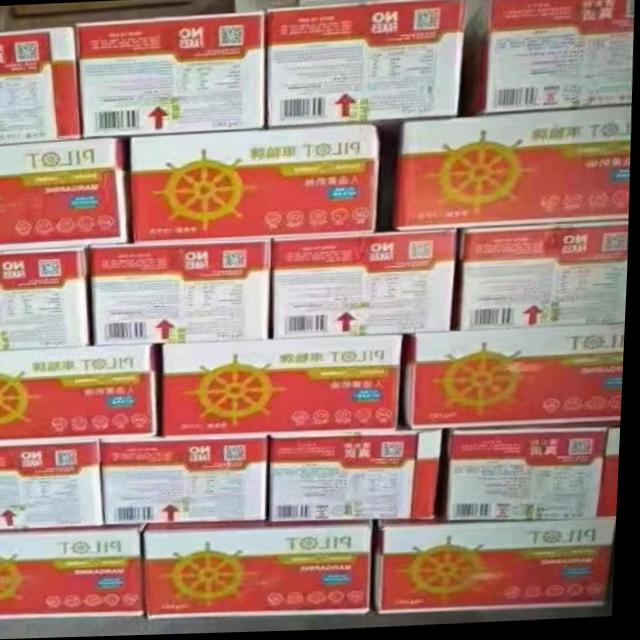box: (386, 109, 632, 234), (129, 127, 378, 243), (161, 335, 410, 438), (266, 0, 464, 128), (76, 13, 264, 136), (405, 327, 627, 430), (379, 522, 621, 616), (146, 523, 376, 620), (458, 0, 634, 118), (88, 239, 272, 346), (271, 234, 456, 339), (457, 224, 630, 332), (445, 427, 625, 522), (269, 432, 446, 524), (0, 344, 162, 443), (103, 436, 271, 526), (0, 138, 131, 252), (0, 526, 149, 618), (0, 24, 81, 146), (0, 439, 107, 530), (0, 246, 94, 349)
